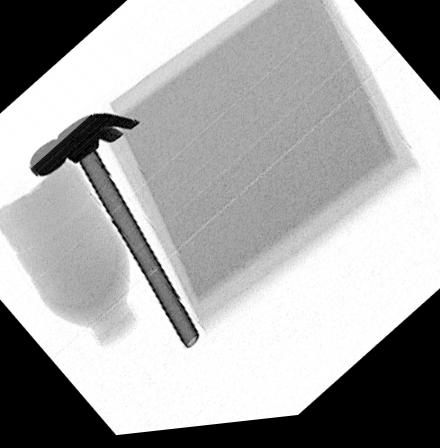Hammer: (27, 113, 199, 352)
